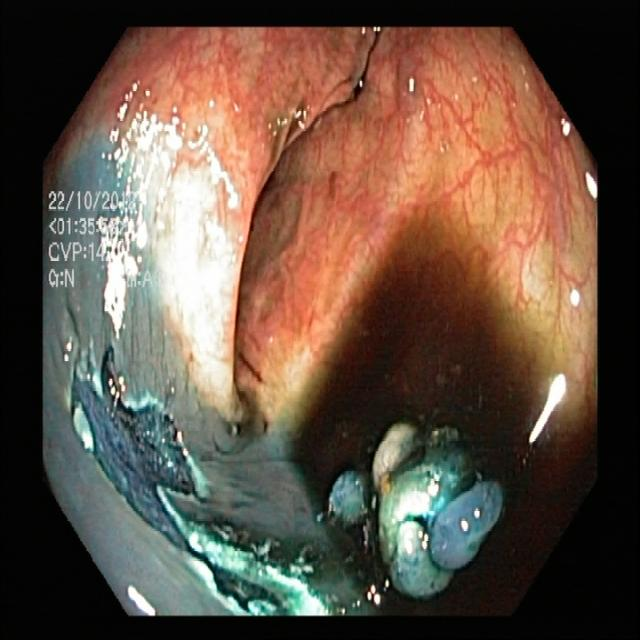dyed-resection-margins: (52, 328, 344, 618), (319, 407, 522, 615)
